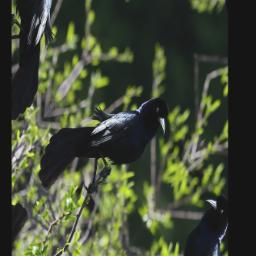Crow: (31, 33, 177, 249)
